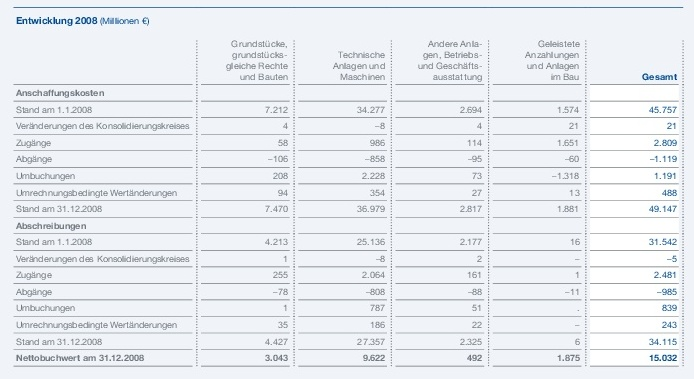table: (0, 0, 694, 379)
